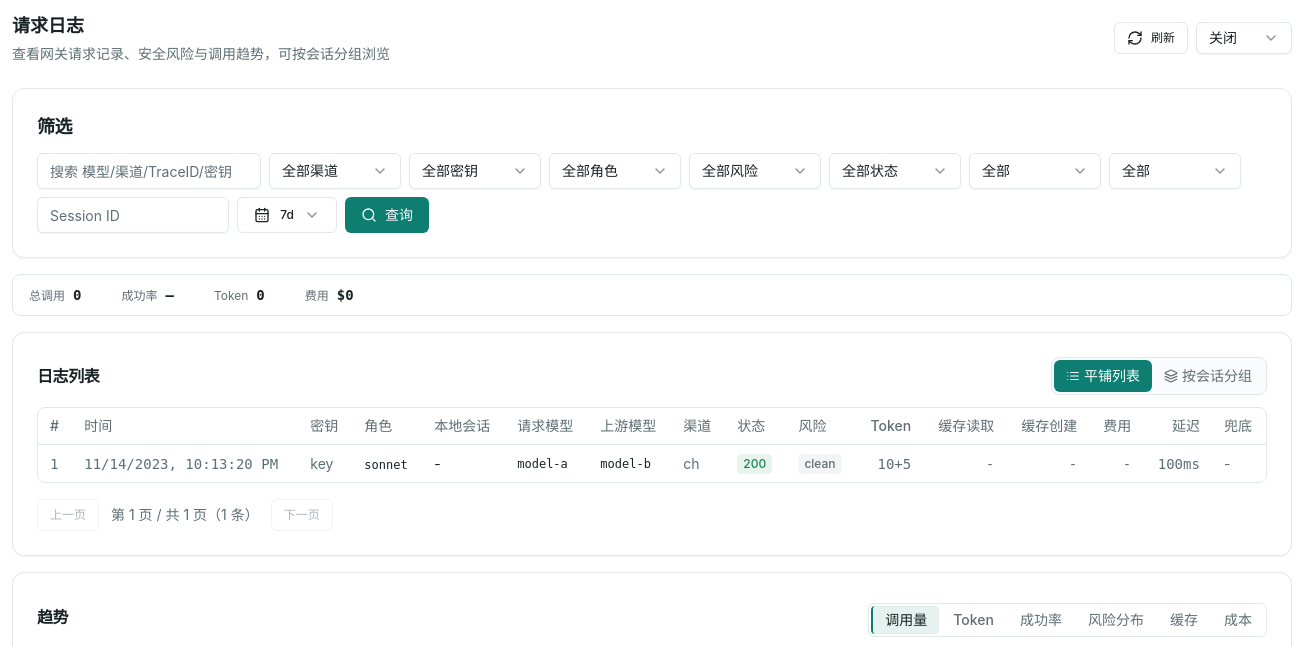
Test case: LogsPage › 会话内日志可展开详情（含 TraceID）
Click the button "按会话分组". click: [1208, 376]
box: [1152,360,1264,392]
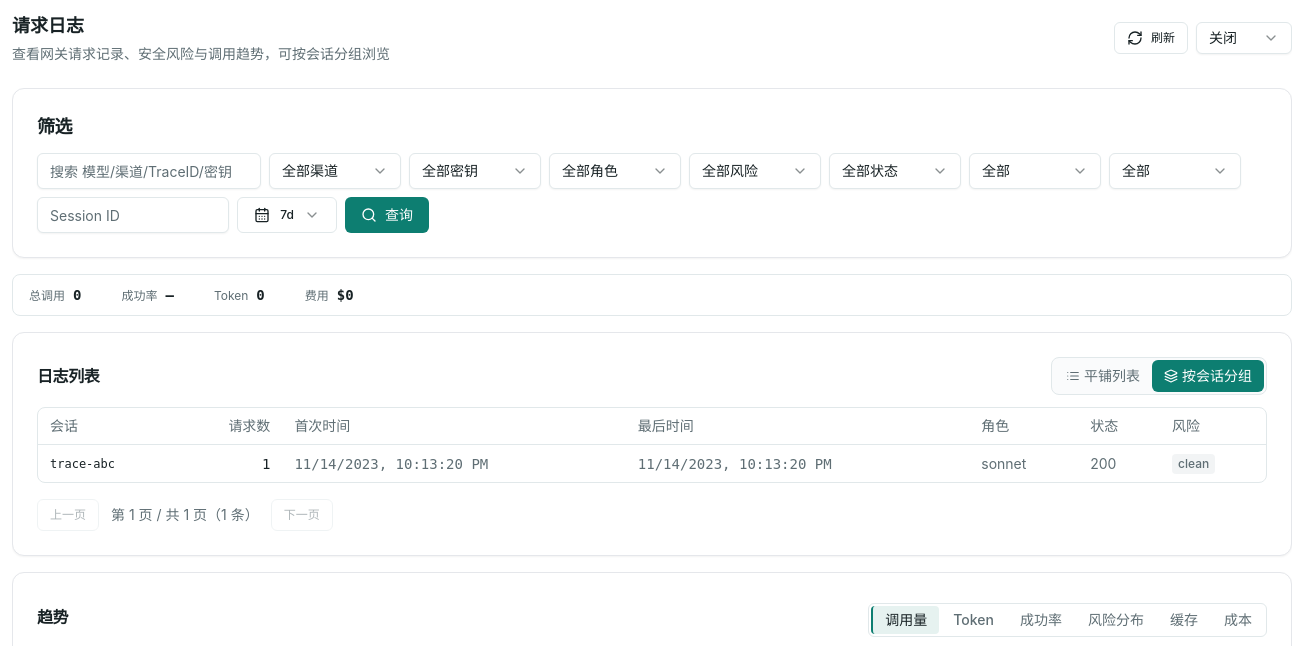
Click the text "trace-abc". click: [82, 464]
box: [50,456,115,472]
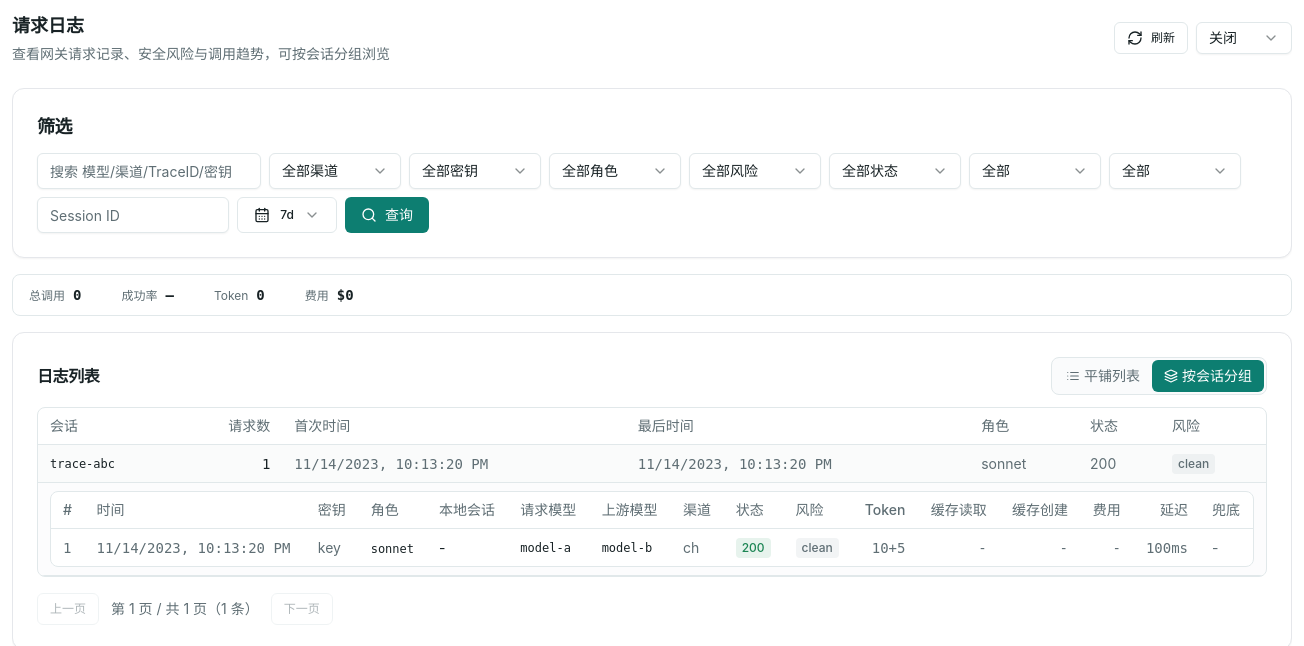
Now the text "model-a" is shown, box [508,528,590,566]
Note: 点击会话内日志行展开详情
Click the text "model-a". click: [652, 547]
box: [51,528,1253,566]
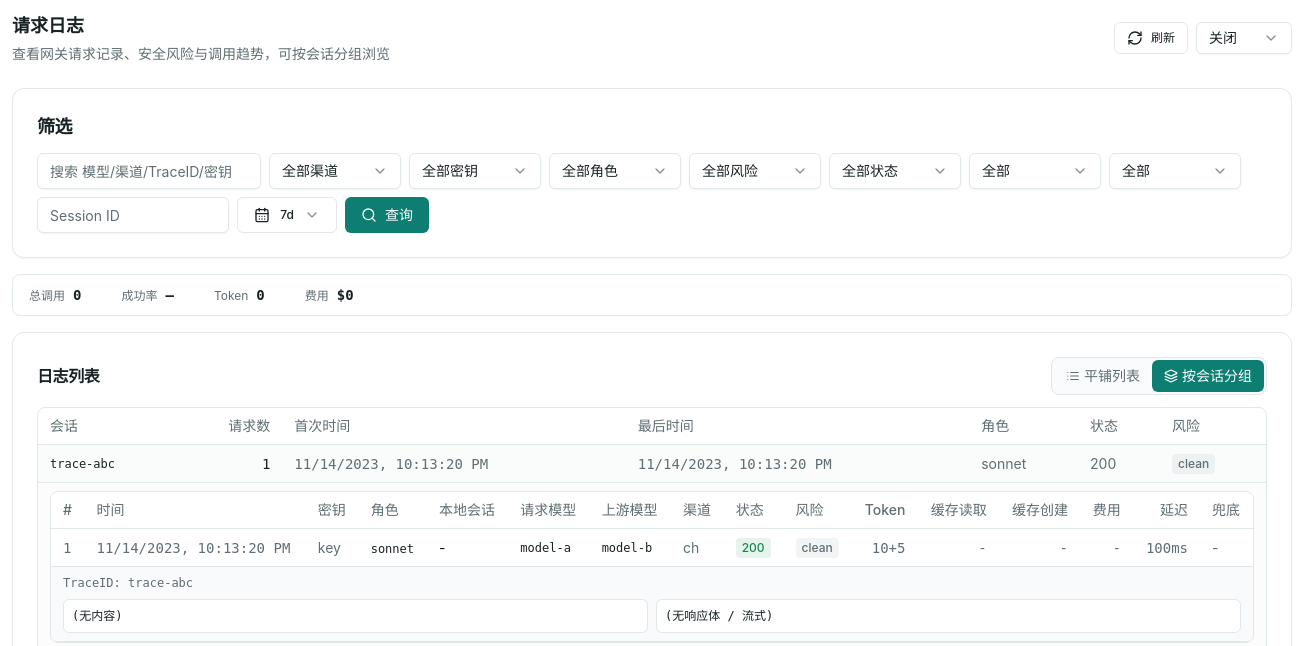
Now the text "TraceID: trace-abc" is shown, box [63,575,193,591]
